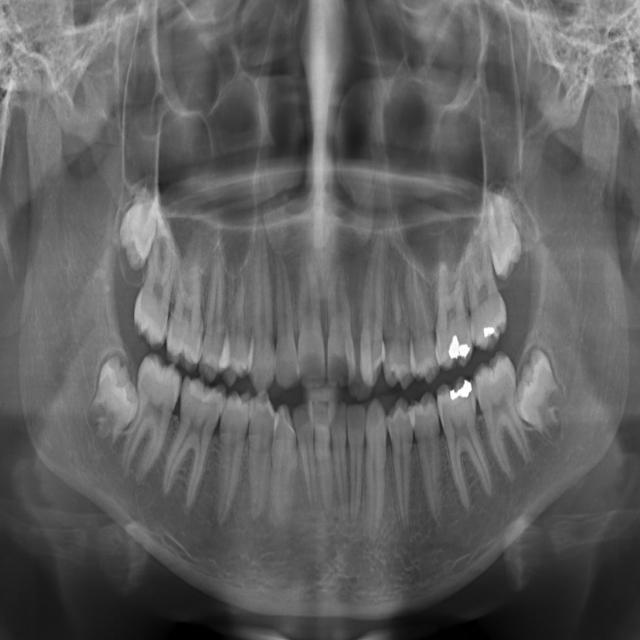3M ESPE Implant: (110, 187, 165, 272)
AGS Medikal Implant: (468, 347, 539, 487)
AMerOss Implant: (432, 372, 500, 518)
Amalgam filling: (129, 214, 182, 350)
Anthogyr Implant: (410, 391, 452, 531)
Bicon Implant: (383, 394, 426, 543)
BioHorizons Implant: (364, 395, 387, 552)
BioLife Implant: (346, 400, 365, 530)
Biomet 3i Implant: (328, 398, 350, 530)
Blue Sky Bio Implant: (313, 398, 337, 520)
Camlog Implant: (291, 398, 328, 525)
Caries: (349, 241, 372, 401)
Composite filling: (267, 402, 303, 532)
Cowellmedi Implant: (240, 393, 276, 522)
Crown: (205, 387, 252, 526)
DENTSPLY Implant: (163, 236, 211, 373)
Dentatus Implant: (149, 372, 228, 514)
Dentis Implant: (117, 349, 187, 490)
Dentium Implant: (77, 352, 144, 459)
Euroteknika Implant: (197, 241, 239, 385)
Filling: (223, 246, 259, 389)
Frontier Implant: (250, 216, 279, 394)
Hiossen Implant: (367, 223, 387, 388)
Implant: (294, 244, 327, 392)
Implant Direct: (273, 240, 299, 390)
Keystone Dental Implant: (326, 258, 352, 391)
MIS Implant: (377, 240, 413, 390)
Mandible: (400, 249, 447, 391)
Maxilla: (428, 247, 475, 373)
Megagen Implant: (459, 214, 512, 355)
Neodent Implant: (482, 183, 527, 284)
Neoss Implant: (496, 343, 586, 449)
